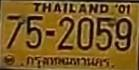0: (76, 17, 93, 49)
2: (58, 16, 74, 49)
5: (95, 16, 113, 50), (25, 15, 42, 48)
7: (6, 14, 23, 48)
9: (114, 17, 131, 50)
BKK: (25, 54, 111, 69)
